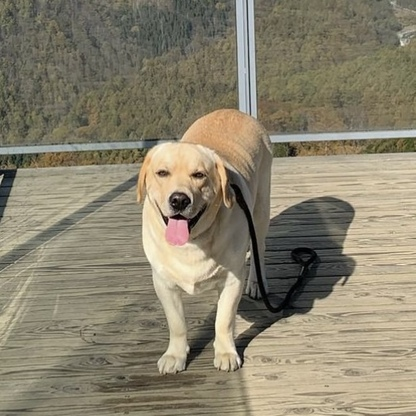labrado: (132, 106, 279, 376)
